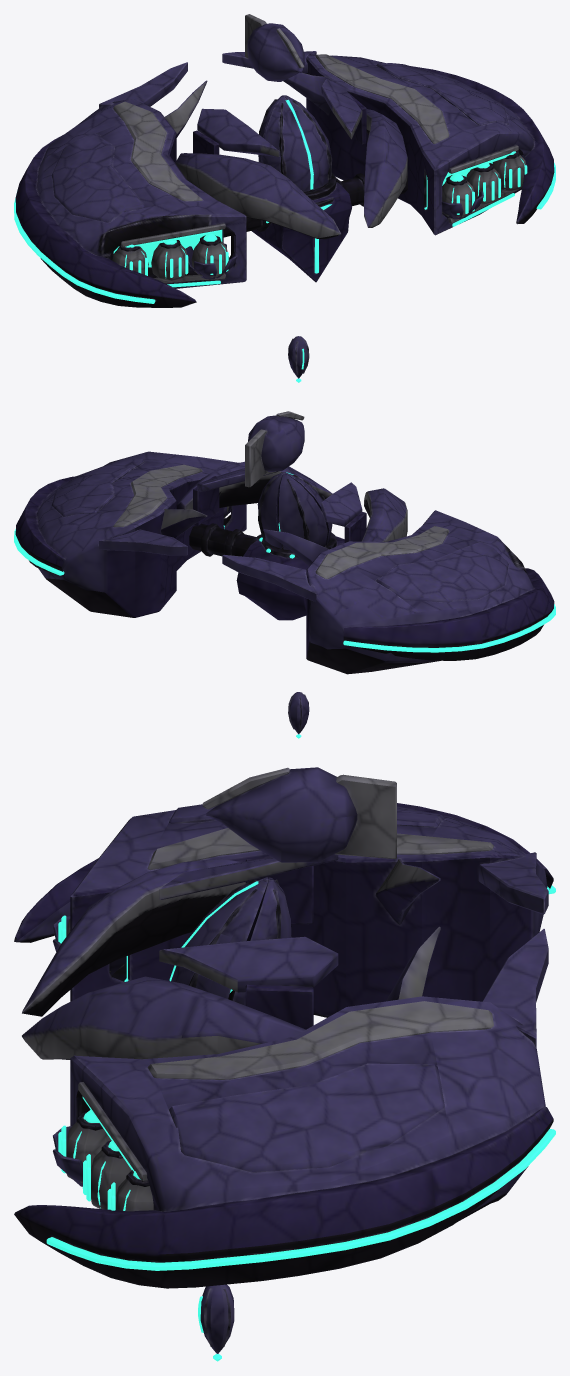
File: the-veil-v6-remodel.glb
3 views of the same model, one above another, from view 1: azimuth 30°, elevation 25°; view 2: azimuth 150°, elevation 25°; view 3: azimuth 270°, elevation 25° (orthographic). The views are drawn at different scales.
Parts seen in each view (by area): view 1: veil_hull, veil_heart_shutter_3, veil_heart_shutter_0, veil_pod_left, veil_pod_right, veil_flight_pod, veil_pod_left_wreck, veil_pod_right_wreck; view 2: veil_hull, veil_heart_shutter_2, veil_heart_shutter_1, veil_flight_pod, veil_heart_shutter_3; view 3: veil_hull, veil_heart_shutter_0, veil_flight_pod, veil_heart_shutter_1, veil_pod_right.
Part boxes in pixels (<box>): veil_hull: <box>14,14,555,307</box>; veil_heart_shutter_3: <box>262,96,312,191</box>; veil_heart_shutter_0: <box>284,96,332,190</box>; veil_pod_left: <box>191,233,229,277</box>; veil_pod_right: <box>442,173,475,217</box>; veil_flight_pod: <box>288,336,309,382</box>; veil_pod_left_wreck: <box>185,243,237,279</box>; veil_pod_right_wreck: <box>441,191,483,219</box>; veil_hull: <box>14,411,555,674</box>; veil_heart_shutter_2: <box>278,473,327,550</box>; veil_heart_shutter_1: <box>257,473,283,548</box>; veil_flight_pod: <box>288,692,309,738</box>; veil_heart_shutter_3: <box>284,472,332,544</box>; veil_hull: <box>14,767,555,1288</box>; veil_heart_shutter_0: <box>169,880,268,998</box>; veil_flight_pod: <box>198,1284,234,1361</box>; veil_heart_shutter_1: <box>232,880,291,1005</box>; veil_pod_right: <box>58,1110,111,1183</box>.
Size of the model in its own units: 12.48 by 8.16 by 6.76.
Materials: 2 (1 with a texture image).
